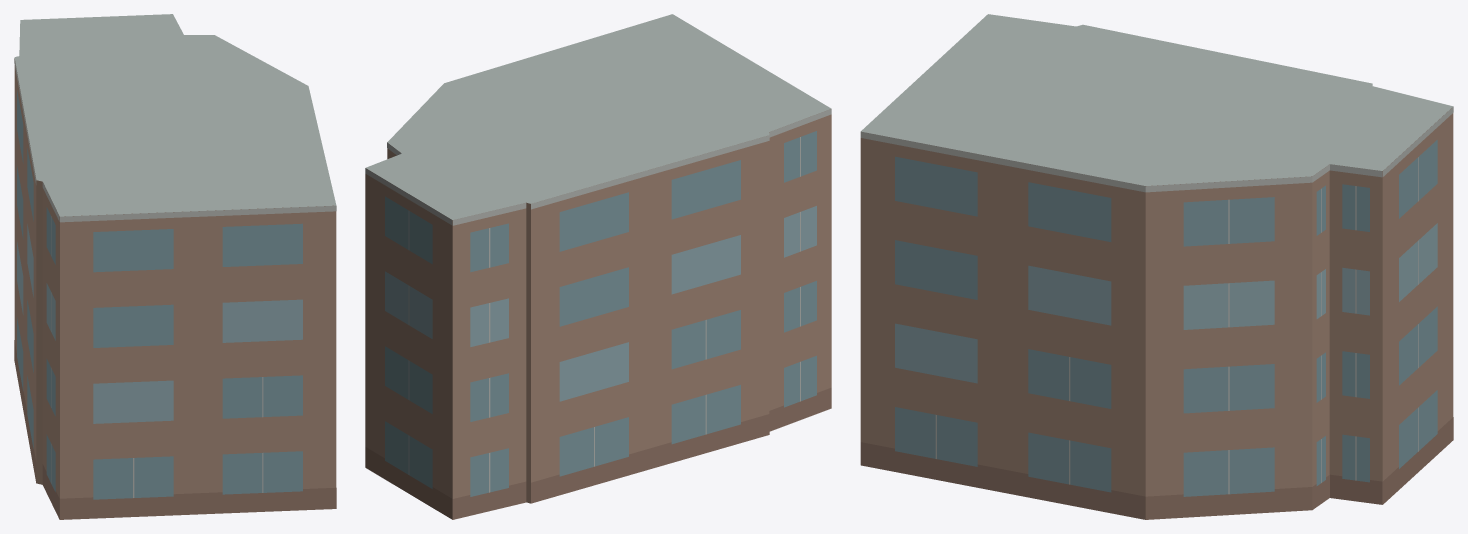
The model's file is survey-upis-32626316.glb.
3 renders of one model, left to right at view 1: azimuth 30°, elevation 25°; view 2: azimuth 150°, elevation 25°; view 3: azimuth 270°, elevation 25°, orthographic. The views are drawn at different scales.
Parts seen in each view (by area): view 1: survey-upis-32626316.tmp; view 2: survey-upis-32626316.tmp; view 3: survey-upis-32626316.tmp.
Part boxes in pixels (x1=…): survey-upis-32626316.tmp: x1=14, y1=14, x2=336, y2=519; survey-upis-32626316.tmp: x1=365, y1=14, x2=831, y2=519; survey-upis-32626316.tmp: x1=860, y1=14, x2=1453, y2=519.
Bounding box in the file's own units: 14.29 × 12.91 × 20.79.
